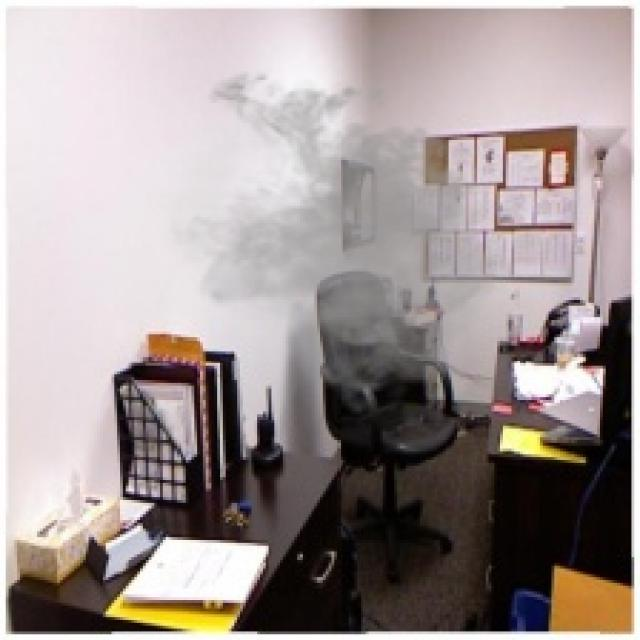smoke: (145, 60, 526, 417)
